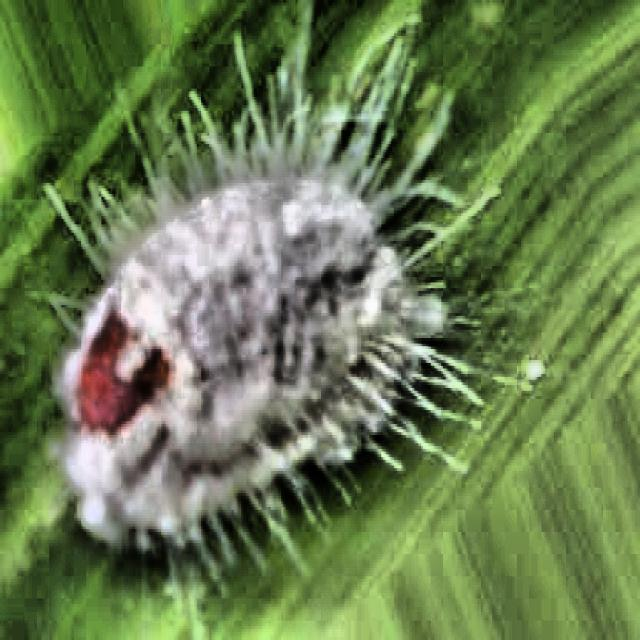Mealy-bug: (44, 27, 482, 618)
